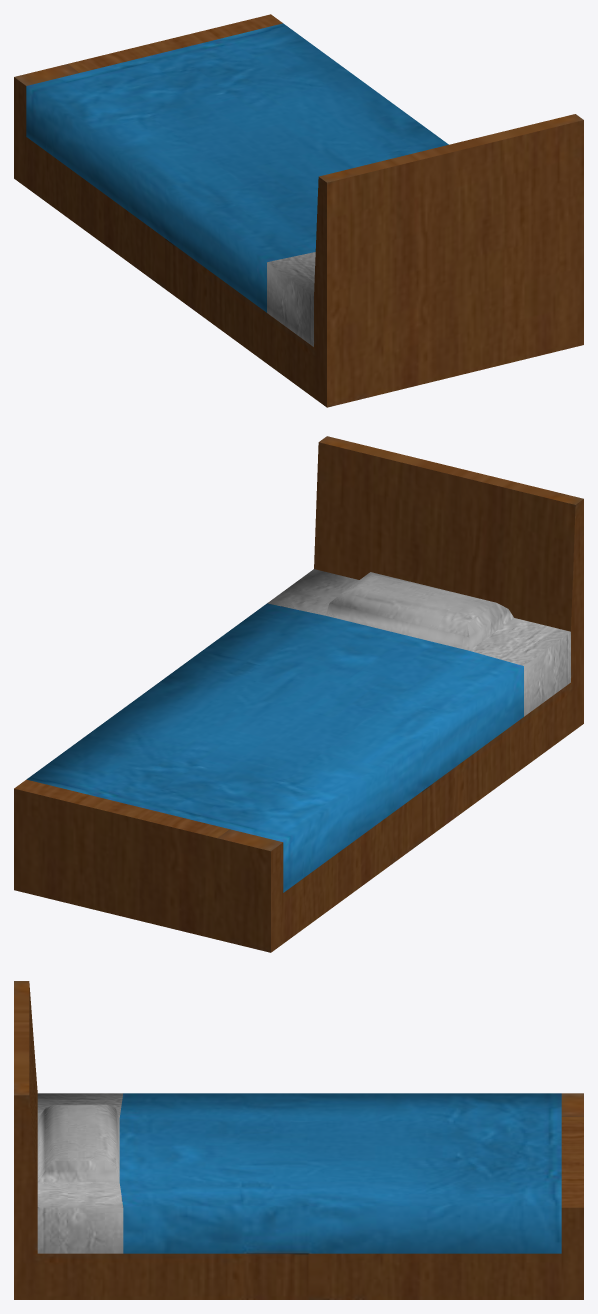
The model's file is bed.glb.
3 views of the same model, one above another, from view 1: azimuth 30°, elevation 25°; view 2: azimuth 150°, elevation 25°; view 3: azimuth 270°, elevation 25° (orthographic). The views are drawn at different scales.
Visible parts, largest first — view 1: bed; view 2: bed; view 3: bed.
Boxes of the visible parts, x1,y1,x2,y2 form: bed: [14, 14, 583, 407]; bed: [14, 436, 583, 952]; bed: [14, 981, 583, 1299].
Bounding box in the file's own units: 1.32 × 1.1 × 2.78.
Materials: 3 (3 with a texture image).
